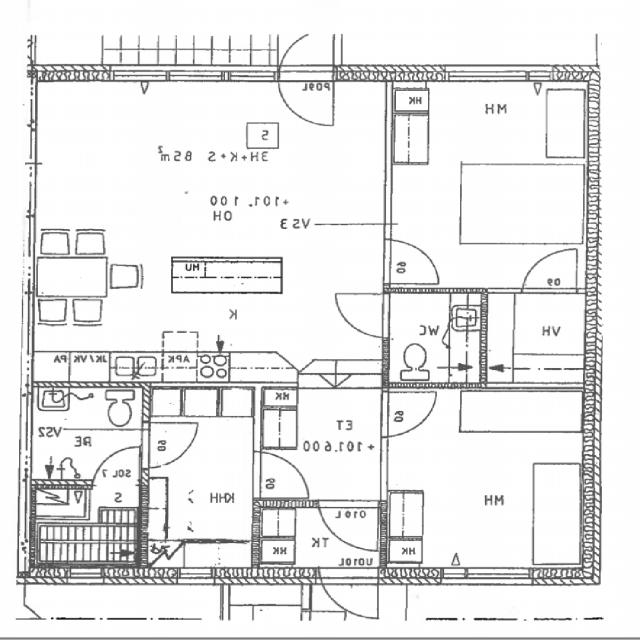door: (321, 568, 381, 634), (322, 500, 382, 557), (280, 64, 332, 125), (280, 20, 332, 81), (256, 452, 318, 498), (144, 422, 206, 468), (522, 243, 576, 293), (385, 392, 445, 436), (332, 294, 392, 337), (385, 240, 442, 283), (94, 441, 139, 489), (303, 611, 351, 640)
